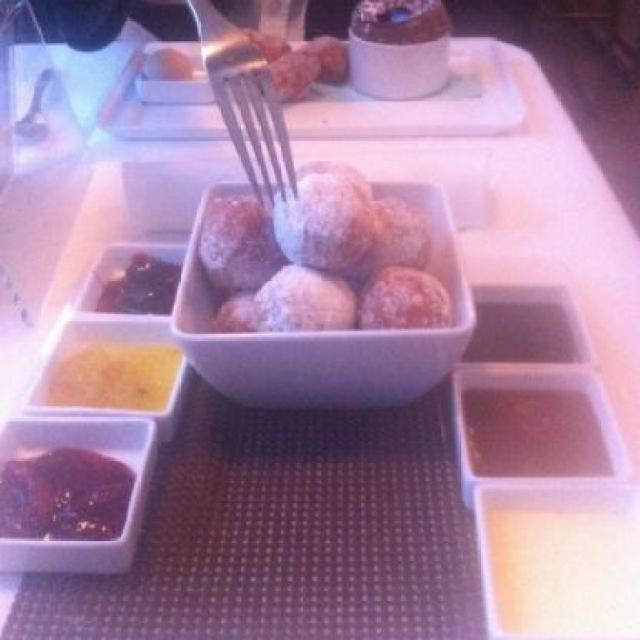Donuts: (196, 160, 482, 362)
